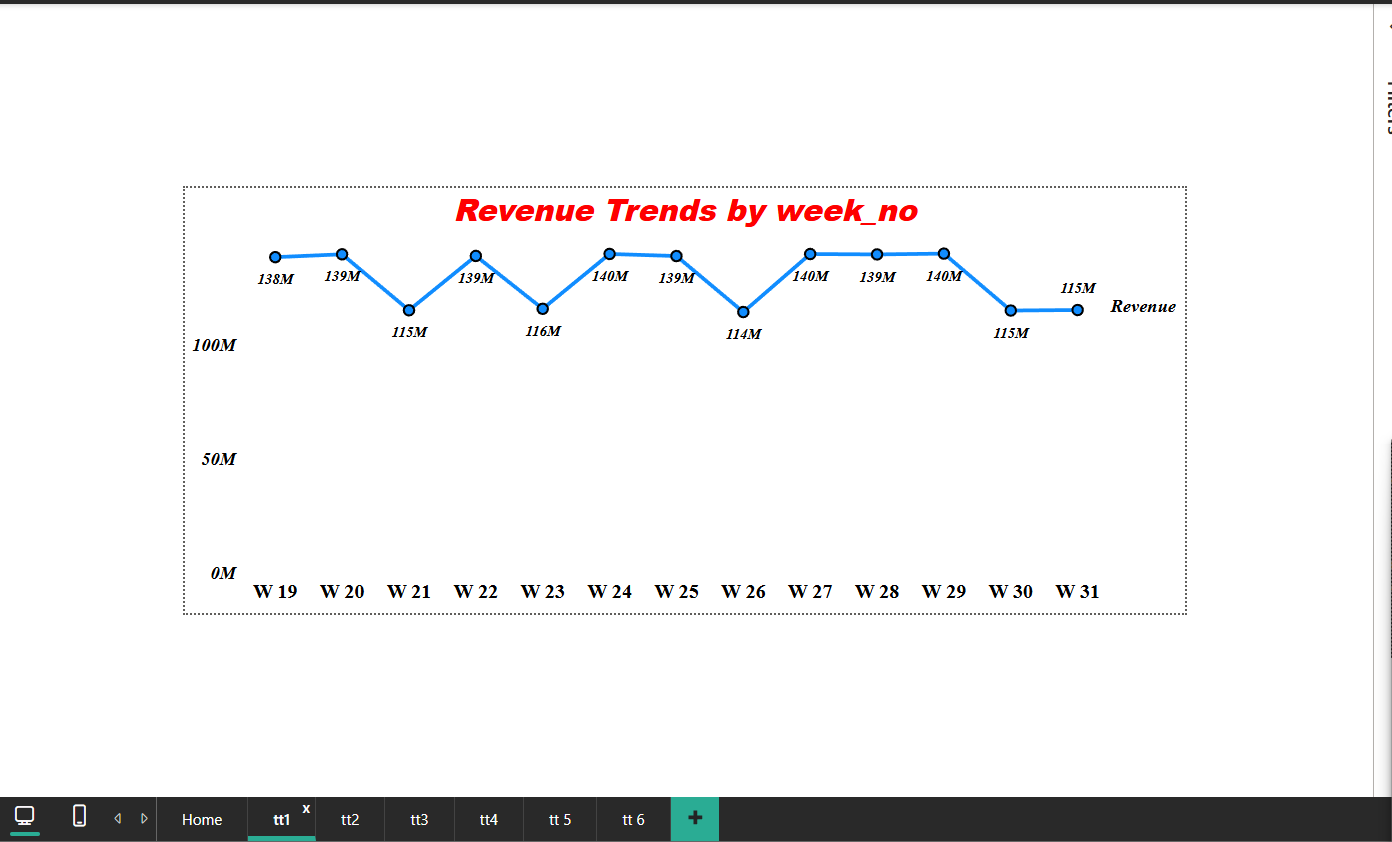

The dashboard page shown, as its layout file describes it:
{"tool":"powerbi","page":{"name":"tt1","canvas":[800,340],"ordinal":1},"visuals":[{"type":"lineChart","title":"Revenue Trends by week_no","fields":{"Y":["Imp measures.Revenue"],"Category":["dim_date.week_no"]},"box":[0,0,800,340],"z":0}]}

Visuals, with their boxes on the page's 800x340 design canvas (x1, y1, x2, y2). These are canvas units, not pixel positions in the 1392x842 screenshot, which may show the page scaled, cropped or inside an application window:
"Revenue Trends by week_no" lineChart: [left=0, top=0, right=800, bottom=340]
